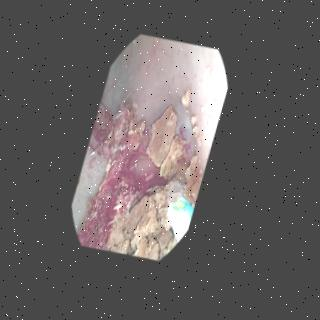fiber: (172, 197, 193, 241)
laser: (175, 198, 187, 212)
stone: (112, 156, 203, 259), (149, 109, 176, 166), (162, 136, 186, 179), (129, 123, 145, 144), (182, 90, 190, 107)
